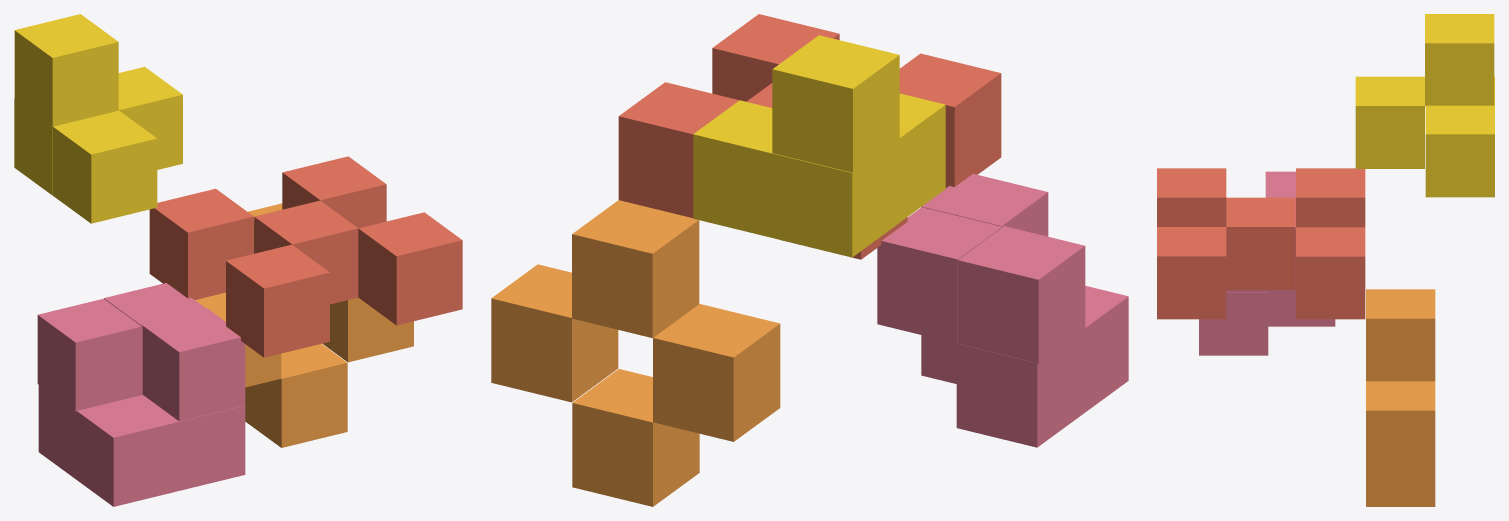
The picture shows the model from 3 angles, left to right: view 1: azimuth 30°, elevation 25°; view 2: azimuth 150°, elevation 25°; view 3: azimuth 270°, elevation 25°; orthographic projection. The views are drawn at different scales.
Visible parts, largest first — view 1: Cube (×5), Cube.4 (×3), Cube.2 (×3), Cube.1 (×4), Cube.3 (×2), Cube.5; view 2: Cube.2 (×4), Cube (×4), Cube.1 (×4), Cube.4 (×2), Cube.3 (×2), Cube.5; view 3: Cube.2 (×3), Cube.1 (×4), Cube (×3), Cube.4 (×2), Cube.3, Cube.5.
Boxes of the visible parts, x1,y1,x2,y2 form: Cube (×5): (14, 99, 358, 411); Cube.4 (×3): (75, 188, 347, 506); Cube.2 (×3): (14, 14, 462, 394); Cube.1 (×4): (38, 66, 413, 478); Cube.3 (×2): (141, 156, 386, 421); Cube.5: (143, 395, 245, 490); Cube.2 (×4): (572, 14, 1004, 343); Cube (×4): (653, 93, 1085, 441); Cube.1 (×4): (491, 53, 1082, 447); Cube.4 (×2): (572, 286, 1128, 506); Cube.3 (×2): (618, 82, 1048, 236); Cube.5: (921, 335, 956, 383); Cube.2 (×3): (1157, 14, 1494, 381); Cube.1 (×4): (1157, 106, 1494, 473); Cube (×3): (1226, 76, 1424, 289); Cube.4 (×2): (1296, 168, 1435, 506); Cube.3: (1296, 227, 1365, 319); Cube.5: (1199, 292, 1268, 355).
Bounding box in the file's own units: 59.54 × 59.9 × 48.71.
